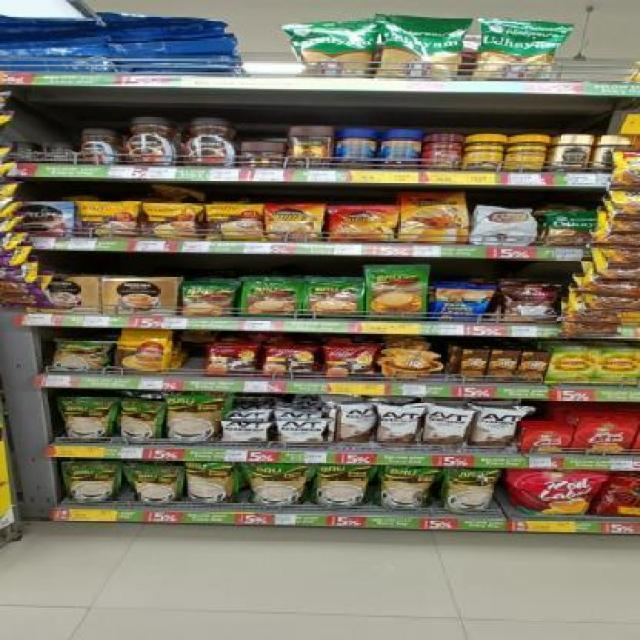Coffee: (402, 191, 468, 245), (126, 116, 179, 166), (184, 118, 238, 166), (328, 206, 396, 243), (265, 205, 324, 241), (18, 201, 74, 236), (79, 129, 122, 164), (598, 134, 630, 173), (559, 135, 592, 172), (45, 142, 75, 164), (10, 142, 40, 161)
